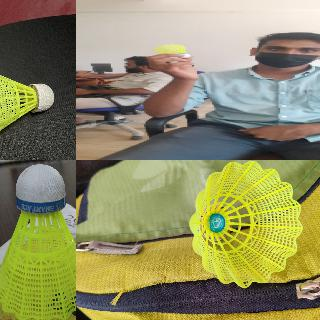shuttlecock: (188, 161, 300, 287), (0, 164, 75, 319), (0, 63, 54, 144), (152, 44, 189, 58)
